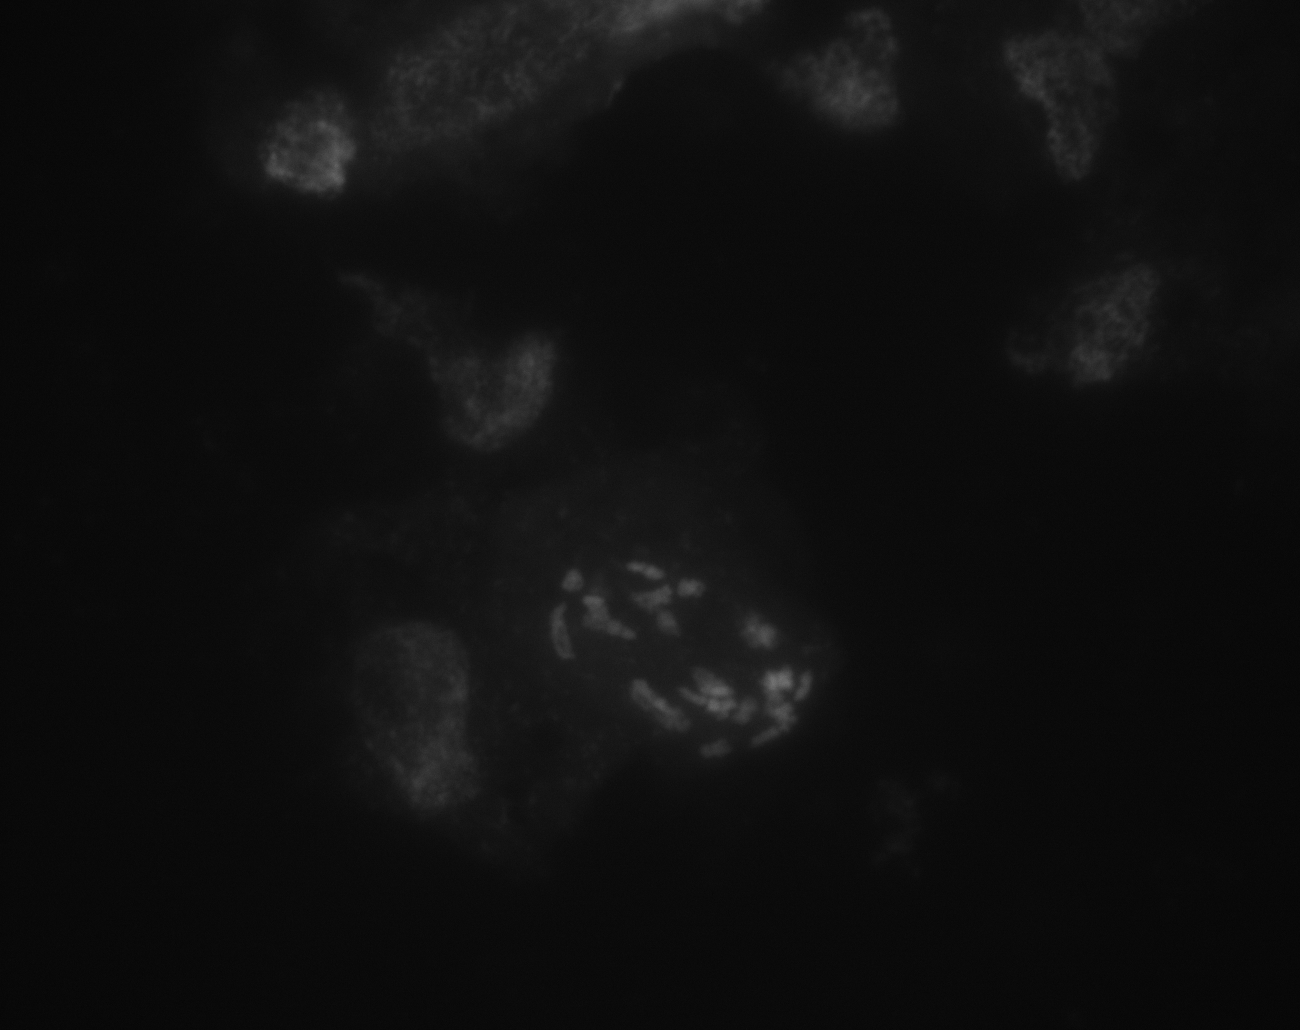Chromosomes: (505, 527, 865, 798)
Others: (327, 5, 776, 177), (299, 576, 547, 869), (1017, 234, 1219, 413), (240, 44, 433, 211), (742, 21, 937, 167)
